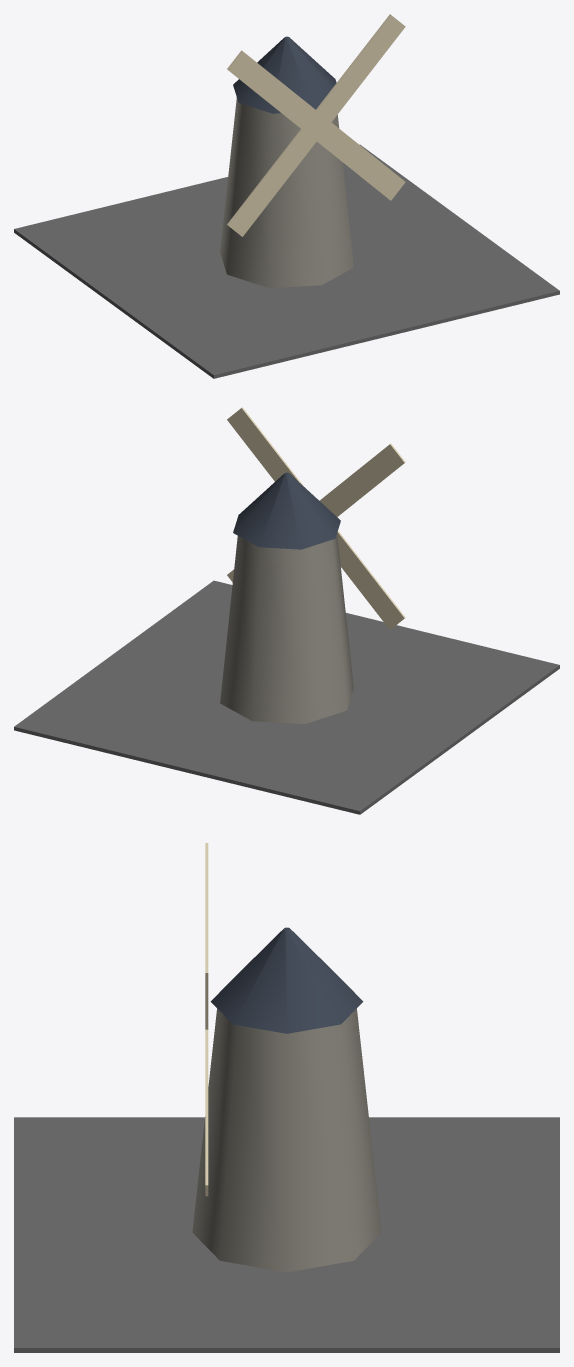
Rendered from bld_special_power_plant_a03_lod1.glb.
The picture shows the model from 3 angles, top to bottom: view 1: azimuth 30°, elevation 25°; view 2: azimuth 150°, elevation 25°; view 3: azimuth 270°, elevation 25°; orthographic projection. The views are drawn at different scales.
Parts seen in each view (by area): view 1: body, rotor; view 2: body, rotor; view 3: body, rotor.
Part boxes in pixels (left/top/right/bottom): body: left=14, top=36, right=559, bottom=378; rotor: left=227, top=14, right=405, bottom=236; body: left=14, top=472, right=559, bottom=814; rotor: left=227, top=407, right=405, bottom=629; body: left=14, top=927, right=559, bottom=1352; rotor: left=205, top=843, right=208, bottom=1196.
Bounding box in the file's own units: 15 × 10.45 × 15.
